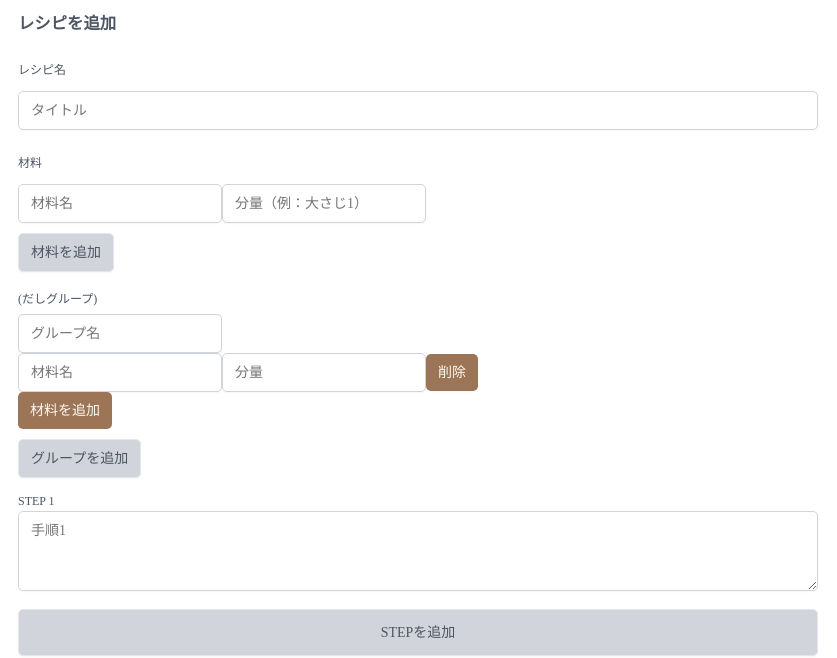
Test: CreateRecipeForm › 動的フィールド › STEP追加ボタンでSTEPを追加できる
Expected: the text "STEP 2" is not shown
Click the button "STEPを追加" at (418, 632), box [18,609,818,656]
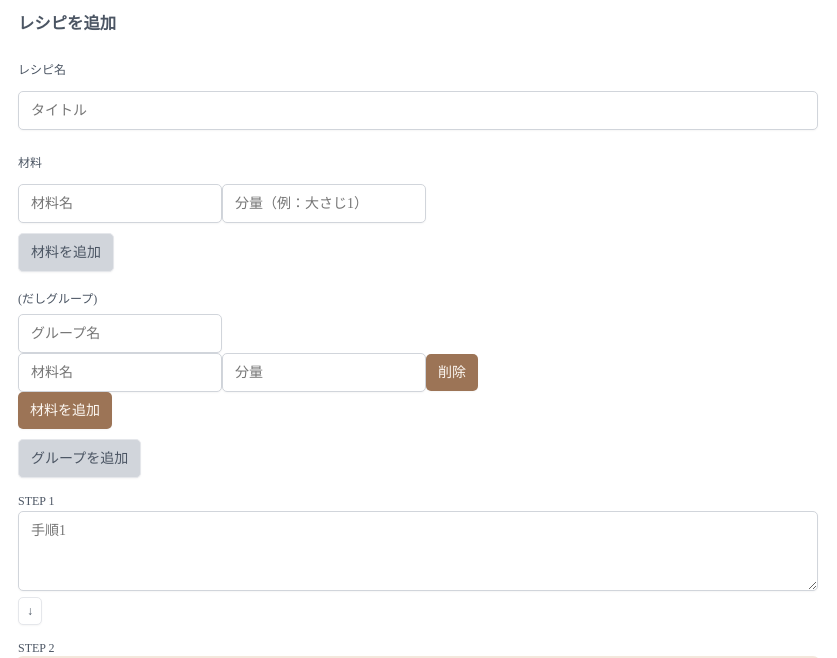
Expected: the text "STEP 2" is shown, [18,641,55,655]
